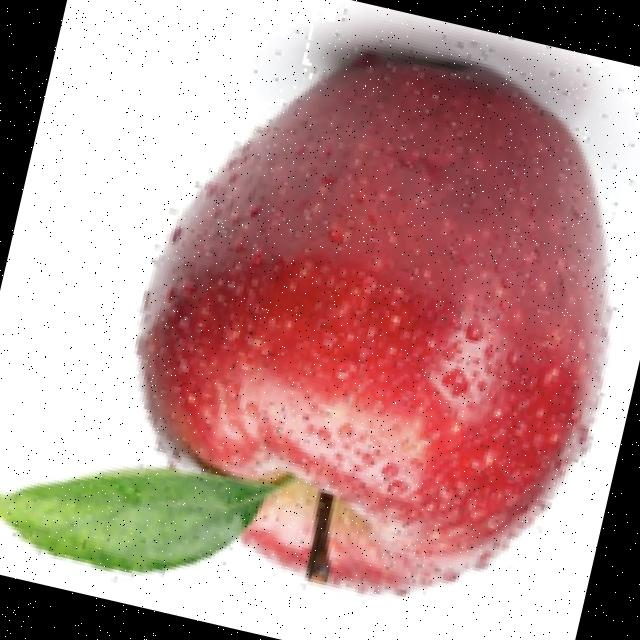apple: (0, 3, 640, 606)
